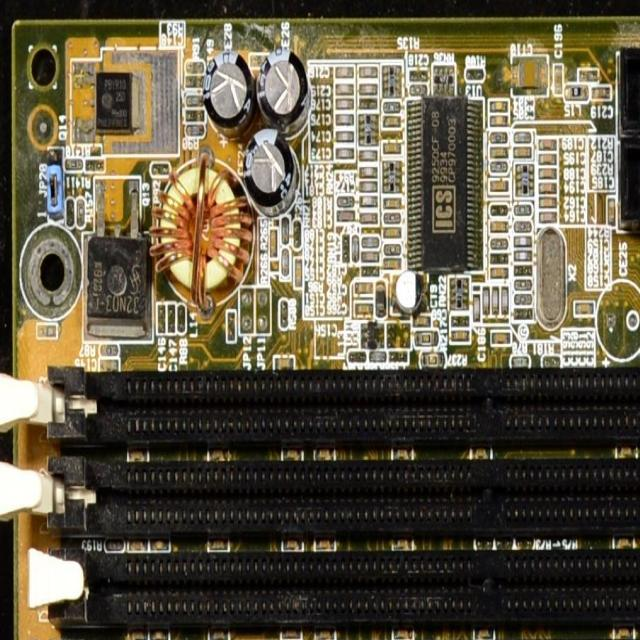IC: (406, 97, 483, 269), (358, 320, 386, 349)
capacitor: (512, 56, 548, 95), (333, 94, 355, 113), (356, 65, 379, 82), (335, 110, 356, 128), (334, 128, 356, 145), (357, 81, 379, 98), (334, 63, 354, 81), (334, 146, 356, 162), (353, 300, 375, 316), (334, 82, 356, 98), (359, 210, 380, 226), (358, 96, 379, 112), (536, 152, 558, 167), (553, 64, 563, 96), (538, 181, 559, 196), (514, 132, 534, 147), (358, 149, 378, 164), (489, 115, 510, 129), (359, 196, 380, 210), (482, 287, 492, 316), (492, 285, 501, 317), (412, 314, 431, 329), (382, 142, 402, 156), (538, 211, 558, 225), (574, 301, 594, 315), (590, 86, 610, 100), (608, 198, 617, 229), (354, 281, 375, 294), (384, 226, 403, 240), (361, 250, 380, 264), (490, 100, 509, 114), (512, 235, 534, 247), (269, 230, 278, 259), (359, 179, 379, 192), (336, 209, 356, 222), (360, 237, 380, 250), (491, 267, 509, 281), (489, 146, 508, 159), (352, 236, 361, 263), (538, 167, 558, 179), (491, 332, 511, 344), (538, 196, 556, 209), (383, 259, 401, 272), (451, 328, 469, 341), (295, 260, 303, 289), (513, 146, 532, 158), (359, 166, 378, 178), (538, 139, 558, 150), (383, 115, 401, 127), (384, 196, 402, 208), (490, 180, 508, 191), (502, 287, 509, 315), (474, 294, 481, 320), (100, 360, 118, 370), (490, 221, 507, 231), (513, 252, 532, 260)
connector: (54, 454, 640, 543), (52, 371, 640, 449), (54, 558, 640, 632), (611, 51, 640, 136), (619, 142, 640, 224)
resistor: (423, 352, 448, 369), (414, 332, 440, 347), (336, 195, 356, 211), (76, 197, 86, 227), (280, 247, 290, 277), (466, 67, 486, 82), (280, 217, 290, 245), (409, 82, 428, 96), (64, 158, 84, 171), (382, 245, 402, 258), (382, 100, 402, 113), (384, 210, 400, 226), (490, 130, 507, 144), (513, 278, 532, 290), (490, 162, 509, 173), (514, 294, 533, 305), (515, 204, 531, 217), (186, 124, 203, 136), (369, 352, 386, 364), (186, 94, 203, 106), (493, 238, 508, 250), (514, 222, 531, 232), (512, 357, 528, 367), (100, 347, 117, 356)
transistor: (86, 179, 150, 334), (71, 62, 146, 140)
